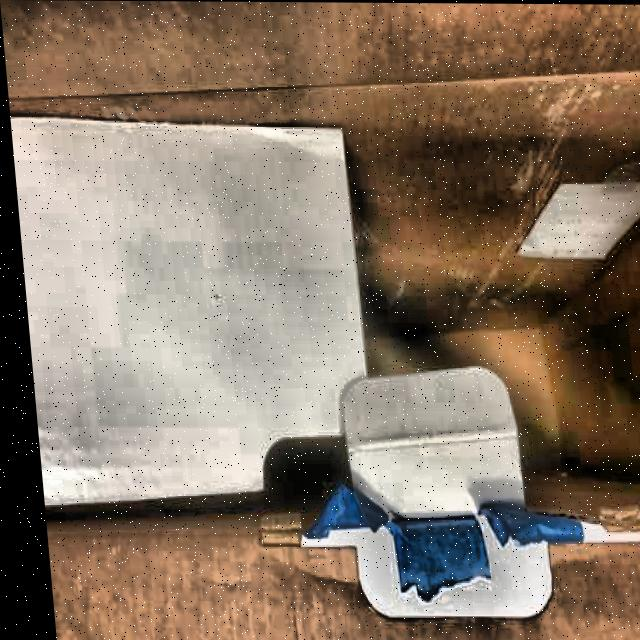cardboard: (10, 115, 382, 519)
